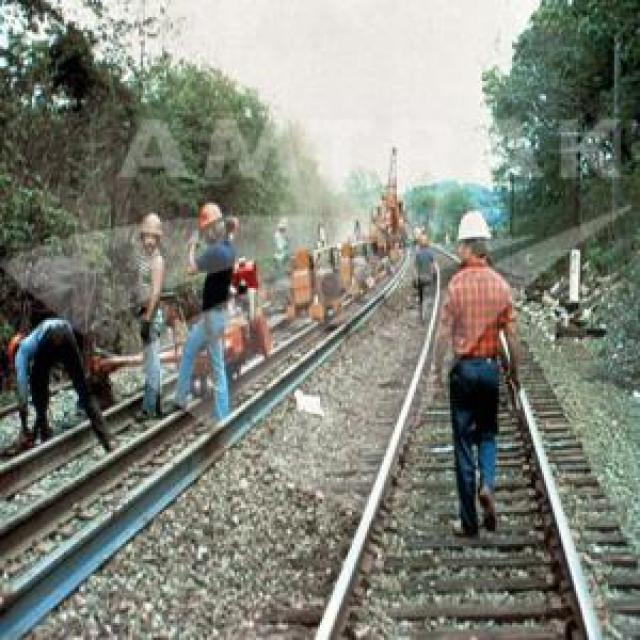danger: (438, 210, 520, 530), (5, 316, 120, 456), (170, 199, 242, 415), (133, 213, 170, 418), (414, 234, 439, 314), (273, 220, 294, 290), (356, 253, 374, 295), (316, 223, 328, 251)
